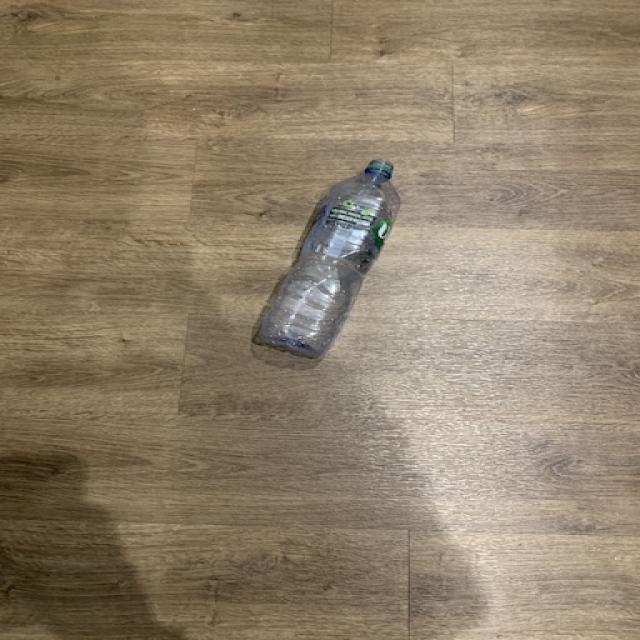bottle: (252, 160, 401, 359)
